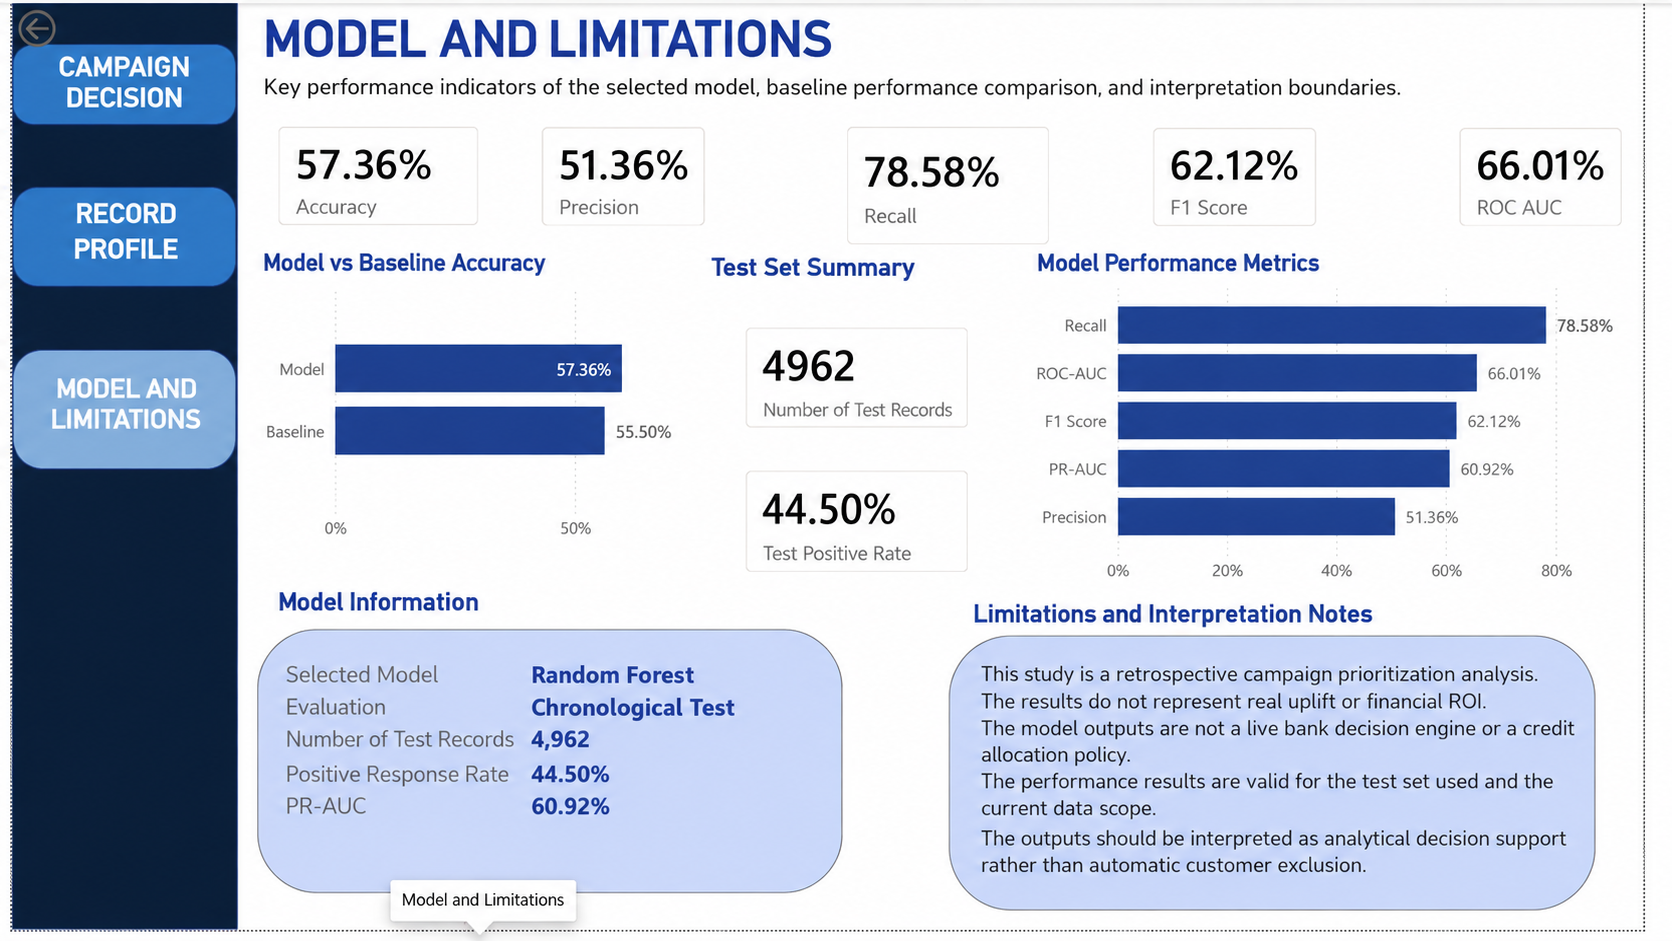

The page's visual inventory and layout, read from the dashboard file:
{"tool":"powerbi","page":{"name":"Model ve Sınırlılıklar","canvas":[1280,720],"ordinal":2},"visuals":[{"type":"shape","box":[192.1,491,460,200],"z":0,"group":"g1"},{"type":"shape","box":[736,496,496,208],"z":0,"group":"g2"},{"type":"shape","box":[0,0,176,720],"z":1000},{"type":"textbox","box":[192,0,896,64],"z":2000},{"type":"shape","box":[0,272,176,96],"z":3000},{"type":"shape","box":[0,32,176,64],"z":4000},{"type":"shape","box":[0,144,176,80],"z":5000},{"type":"textbox","box":[16,144,144,80],"z":6000},{"type":"textbox","box":[0,32,176,64],"z":7000},{"type":"textbox","box":[0,288,176,64],"z":9000},{"type":"actionButton","box":[0,0,100,40],"z":10000},{"type":"textbox","box":[192,48,1040,32],"z":11000},{"type":"cardVisual","fields":{"Data":["CampaignDashboard.Öncelikli Kayıt Sayısı"]},"box":[208,80,160,112],"z":12000},{"type":"cardVisual","fields":{"Data":["SummaryMetrics.Accuracy KPI"]},"box":[192,80,192,112],"z":17000},{"type":"cardVisual","fields":{"Data":["SummaryMetrics.Precision KPI"]},"box":[400,80,160,112],"z":18000},{"type":"cardVisual","fields":{"Data":["SummaryMetrics.Recall KPI"]},"box":[640,80,192,128],"z":19000},{"type":"cardVisual","fields":{"Data":["SummaryMetrics.F1 Score KPI"]},"box":[880,80,160,112],"z":20000},{"type":"cardVisual","fields":{"Data":["SummaryMetrics.ROC AUC KPI"]},"box":[1120,80,160,112],"z":21000},{"type":"cardVisual","fields":{"Data":["SummaryMetrics.Test Kayıt Sayısı"]},"box":[560,240,192,112],"z":23000},{"type":"cardVisual","fields":{"Data":["SummaryMetrics.Test Pozitif Oranı"]},"box":[560,352,192,112],"z":24000},{"type":"textbox","box":[209.8,507.7,424.6,150],"z":25000,"group":"g1"},{"type":"textbox","box":[753.1,512,478.9,176],"z":25000,"group":"g2"},{"type":"group","id":"g1","title":"Grup 1","box":[192.1,491,460,200],"z":25001},{"type":"textbox","box":[208,448,128,32],"z":25002},{"type":"group","id":"g2","title":"Grup 1","box":[736,496,496,208],"z":25003},{"type":"textbox","box":[544,192,208,32],"z":25004},{"type":"textbox","box":[752,464,288,32],"z":25005},{"type":"clusteredBarChart","title":"Model Performans Metrikleri","fields":{"Category":["Model Metrikleri.Metrik"],"Y":["SummaryMetrics.Model Metrik Değeri"]},"box":[800,192,464,272],"z":25006},{"type":"clusteredBarChart","title":"Model vs Baseline Accuracy","fields":{"Category":["Accuracy Grupları.Grup"],"Y":["SummaryMetrics.Accuracy Karşılaştırma Değeri"]},"box":[192,192,336,240],"z":25007}]}

Visuals, with their boxes in screenshot pixels (x1, y1, x2, y2), scaled from the page's 1280x720 canvas onto the 1672x941 screenshot:
shape: 251 642 852 903
shape: 961 648 1609 920
shape: 0 0 230 940
textbox: 251 0 1421 84
shape: 0 355 230 481
shape: 0 42 230 125
shape: 0 188 230 293
textbox: 21 188 209 293
textbox: 0 42 230 125
textbox: 0 376 230 460
actionButton: 0 0 131 52
textbox: 251 63 1609 105
cardVisual - CampaignDashboard.Öncelikli Kayıt Sayısı: 272 105 481 251
cardVisual - SummaryMetrics.Accuracy KPI: 251 105 502 251
cardVisual - SummaryMetrics.Precision KPI: 522 105 732 251
cardVisual - SummaryMetrics.Recall KPI: 836 105 1087 272
cardVisual - SummaryMetrics.F1 Score KPI: 1150 105 1358 251
cardVisual - SummaryMetrics.ROC AUC KPI: 1463 105 1671 251
cardVisual - SummaryMetrics.Test Kayıt Sayısı: 732 314 982 460
cardVisual - SummaryMetrics.Test Pozitif Oranı: 732 460 982 606
textbox: 274 664 829 860
textbox: 984 669 1609 899
"Grup 1" group: 251 642 852 903
textbox: 272 586 439 627
"Grup 1" group: 961 648 1609 920
textbox: 711 251 982 293
textbox: 982 606 1358 648
"Model Performans Metrikleri" clusteredBarChart: 1045 251 1651 606
"Model vs Baseline Accuracy" clusteredBarChart: 251 251 690 565
